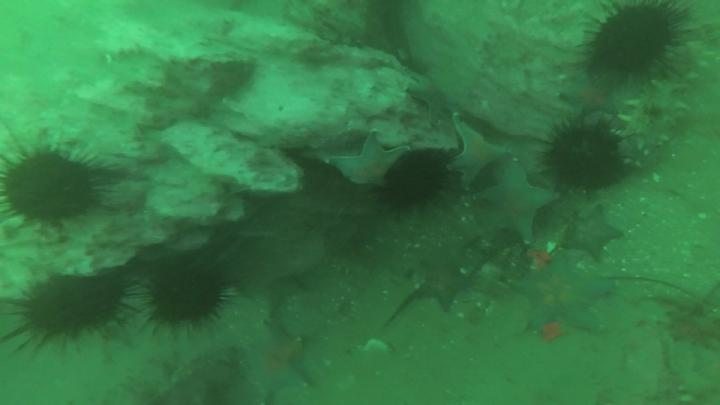echinus: (4, 153, 101, 225), (18, 276, 125, 340), (591, 5, 675, 76), (546, 120, 622, 188), (150, 266, 224, 324), (380, 152, 448, 207)
holothurian: (626, 76, 688, 153)
starfish: (515, 258, 608, 334), (482, 160, 559, 246), (241, 323, 309, 399), (321, 130, 411, 185), (453, 124, 505, 189), (565, 208, 622, 262), (412, 264, 470, 308), (408, 71, 455, 123), (563, 75, 617, 117)
